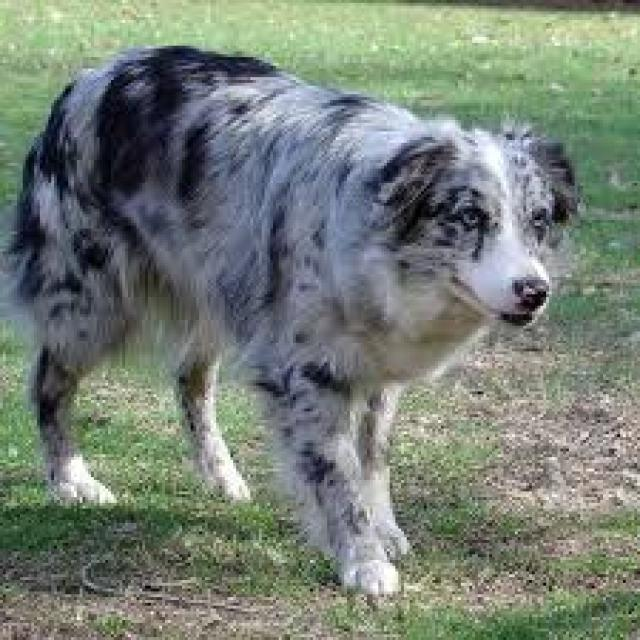BORDER_COLLIE: (0, 26, 600, 597)
